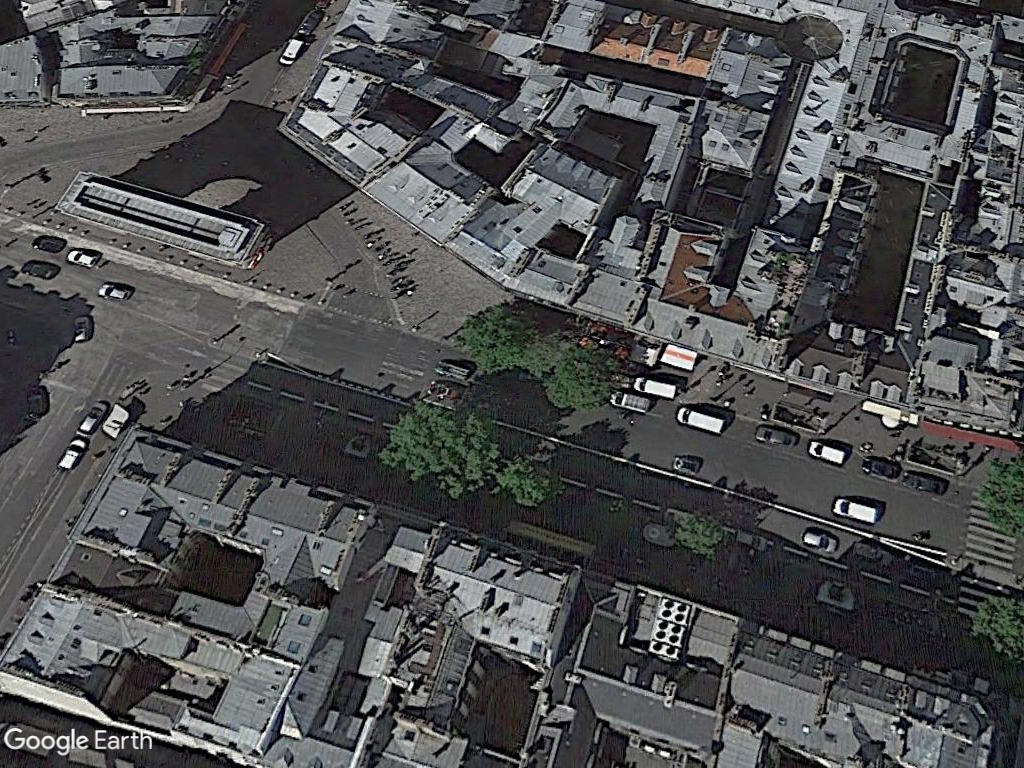car: (72, 389, 111, 436), (900, 465, 951, 498), (856, 450, 906, 482), (751, 422, 804, 451), (800, 525, 844, 557), (96, 278, 135, 303), (69, 311, 96, 346), (22, 256, 62, 279), (66, 246, 101, 270)
other: (19, 380, 53, 421), (429, 355, 471, 383), (665, 451, 709, 477), (30, 231, 70, 256)
van: (677, 402, 728, 435), (606, 384, 656, 417), (53, 434, 90, 476), (833, 495, 882, 524), (806, 438, 849, 466), (635, 373, 681, 399), (277, 35, 307, 70)
